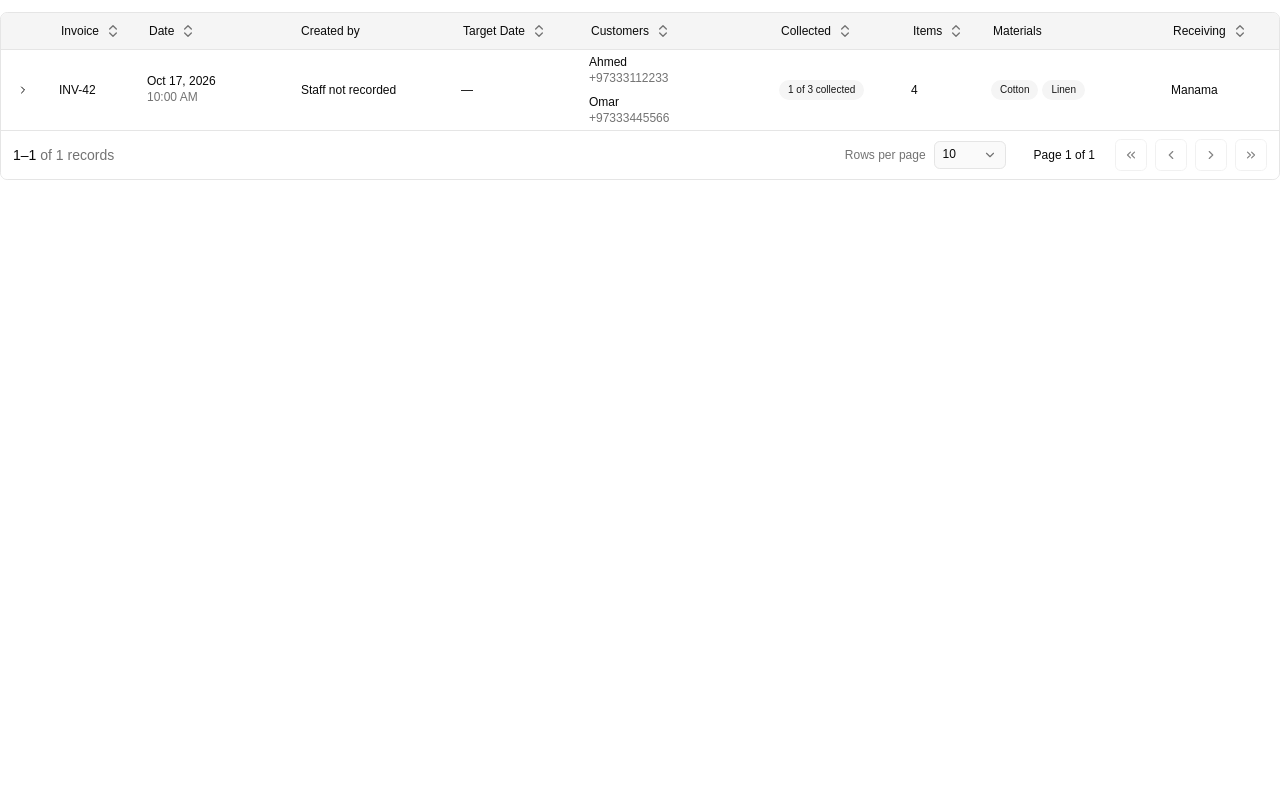
Test case: Invoice table › marks only urgent orders in the breakdown and includes their fee once
Click the button named "Show orders" at (23, 90), box 11,78 -> 35,102
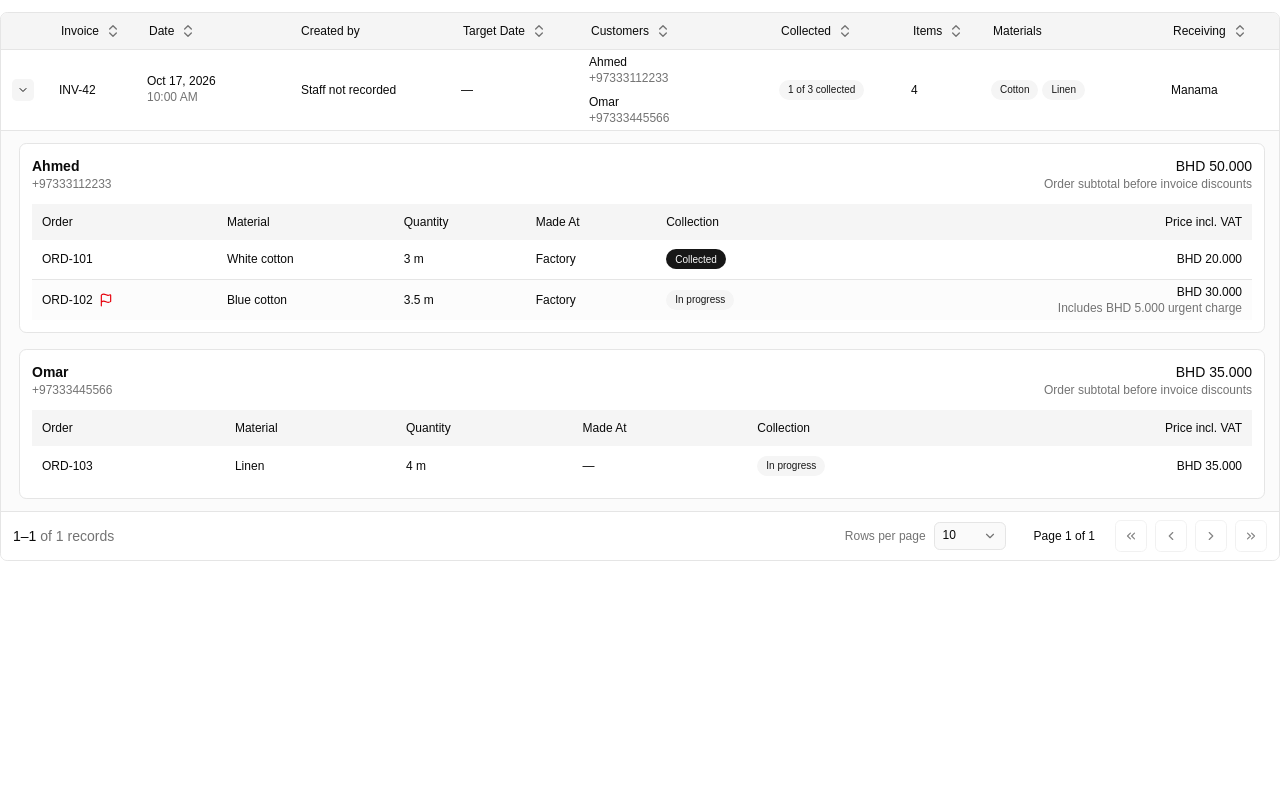
Expected: the picture named "Urgent order" is shown, 99,293 -> 113,307
Expected: the text "BHD 30.000" is shown, 1177,285 -> 1242,299
Expected: the text "Includes BHD 5.000 urgent charge" is shown, 1058,301 -> 1242,315
